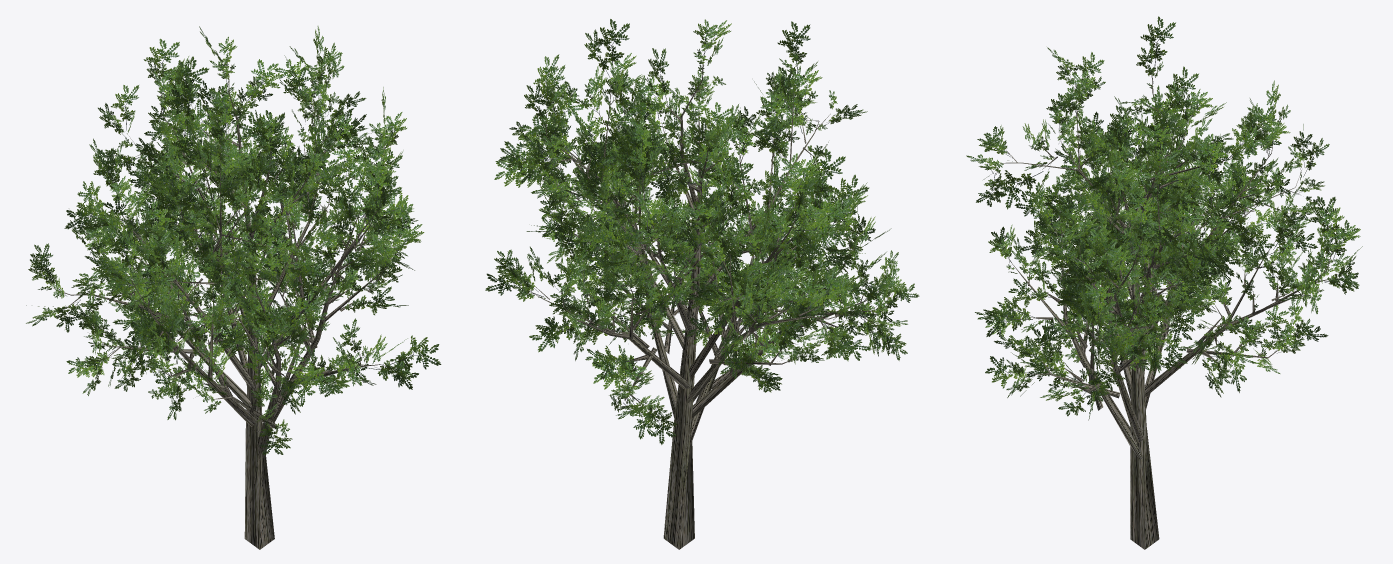
File: tree1_LOD2.gltf
3 views of the same model, side by side, from view 1: azimuth 30°, elevation 25°; view 2: azimuth 150°, elevation 25°; view 3: azimuth 270°, elevation 25° (orthographic). The views are drawn at different scales.
Parts seen in each view (by area): view 1: Leaves_LOD2, Branches_LOD2; view 2: Leaves_LOD2, Branches_LOD2; view 3: Leaves_LOD2, Branches_LOD2.
Part boxes in pixels (<box>): Leaves_LOD2: <box>26,26,441,455</box>; Branches_LOD2: <box>52,72,391,549</box>; Leaves_LOD2: <box>485,19,919,444</box>; Branches_LOD2: <box>528,61,887,549</box>; Leaves_LOD2: <box>966,16,1362,420</box>; Branches_LOD2: <box>996,73,1335,549</box>.
Bounding box in the file's own units: 74.51 × 99.96 × 76.22.
Materials: 2 (2 with a texture image).
